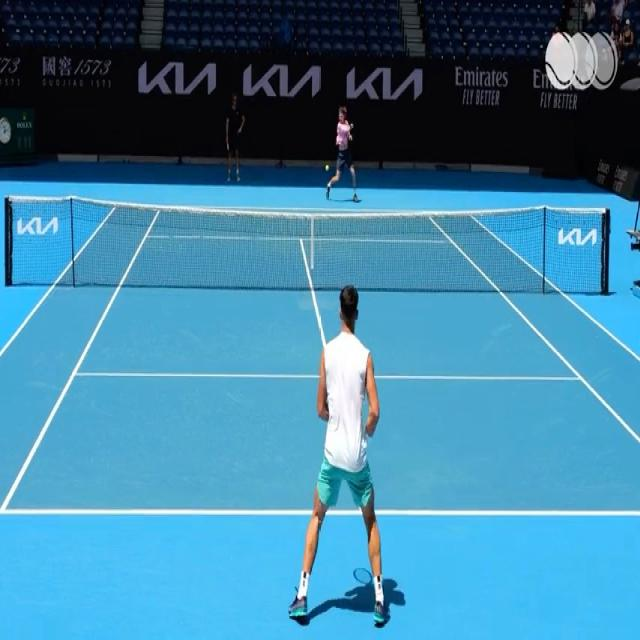ready-position: (295, 267, 386, 629)
